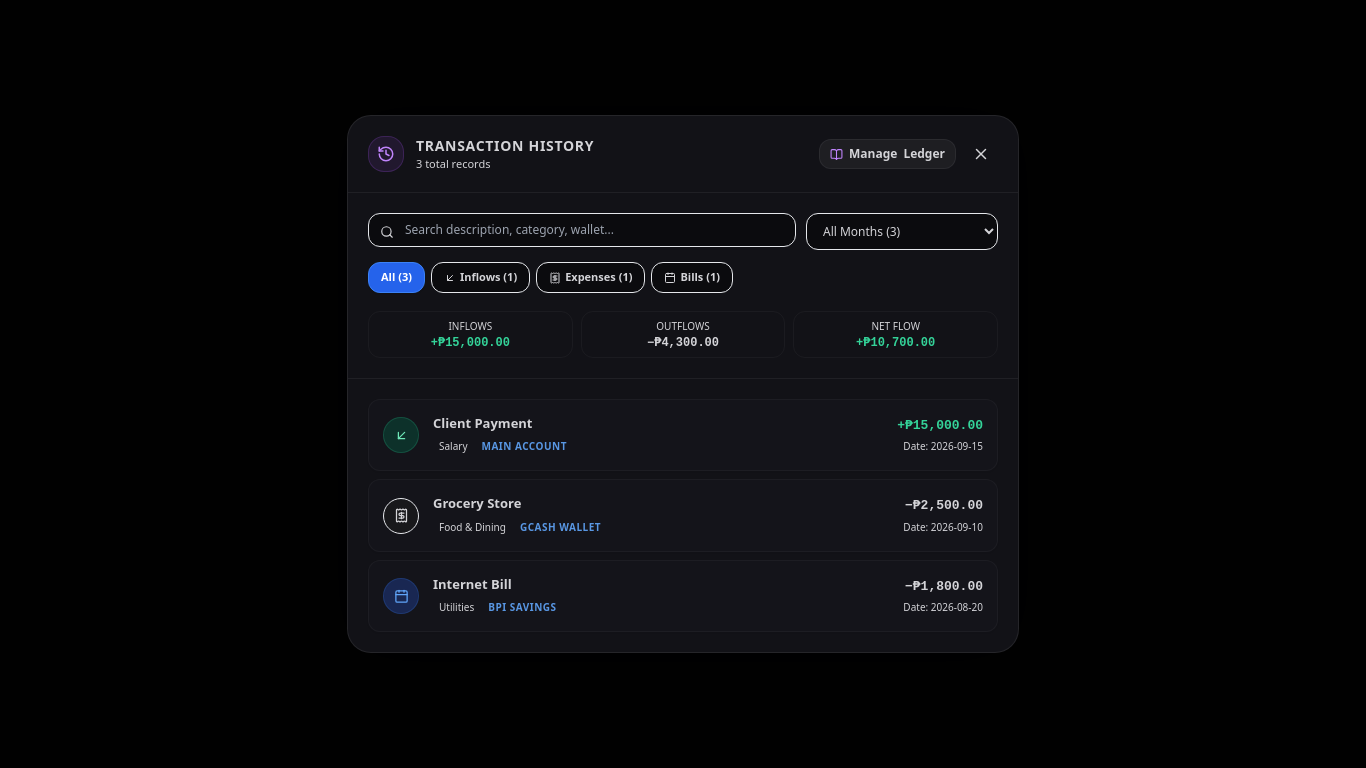
TransactionHistoryModal › displays empty state and resets filters when clear button is clicked
The image size is (1366, 768).
Type "nonexistent query" into the field with placeholder "Search description, category, wallet..." at coordinates (582, 230), box [368,213,796,247]
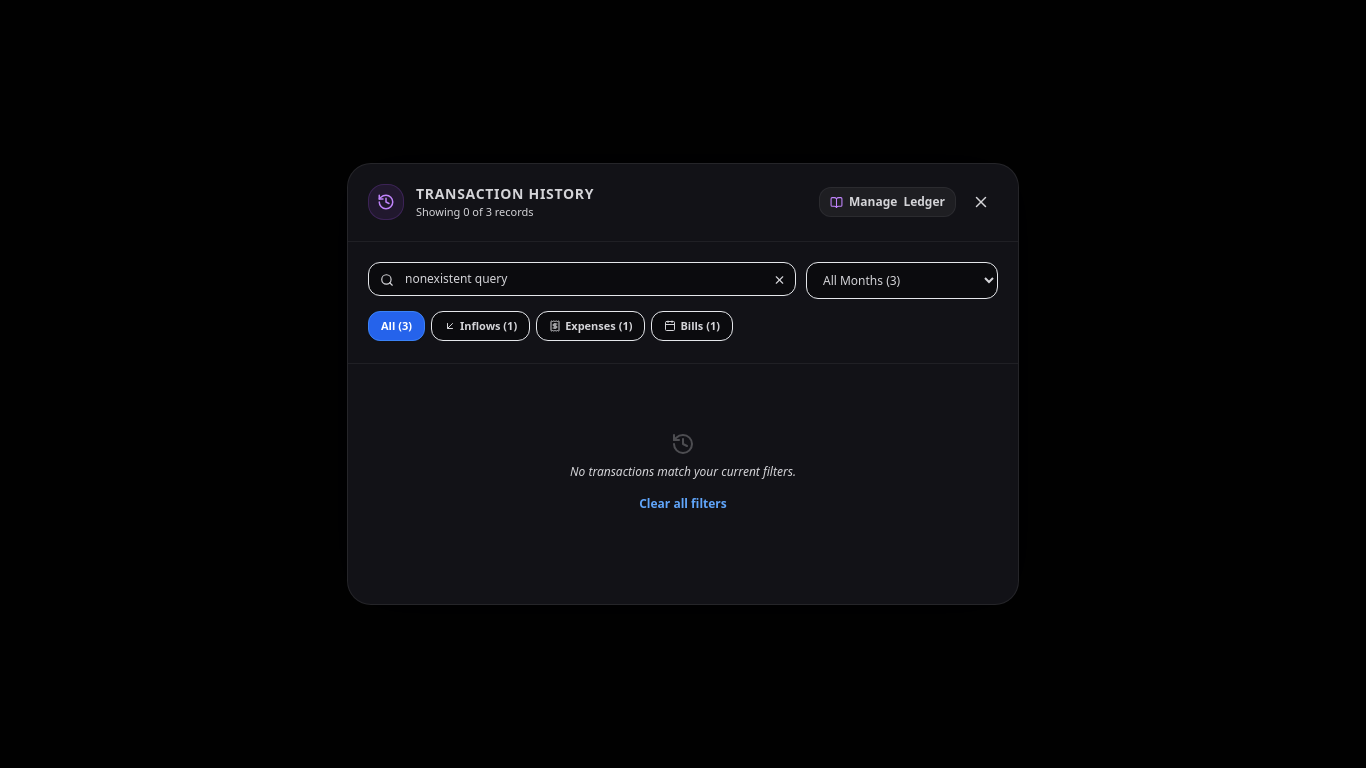
Expected: the text "No transactions match your current filters." is shown, [570,464,796,480]
Click the button "Clear all filters" at coordinates (683, 504), box [639,496,727,512]
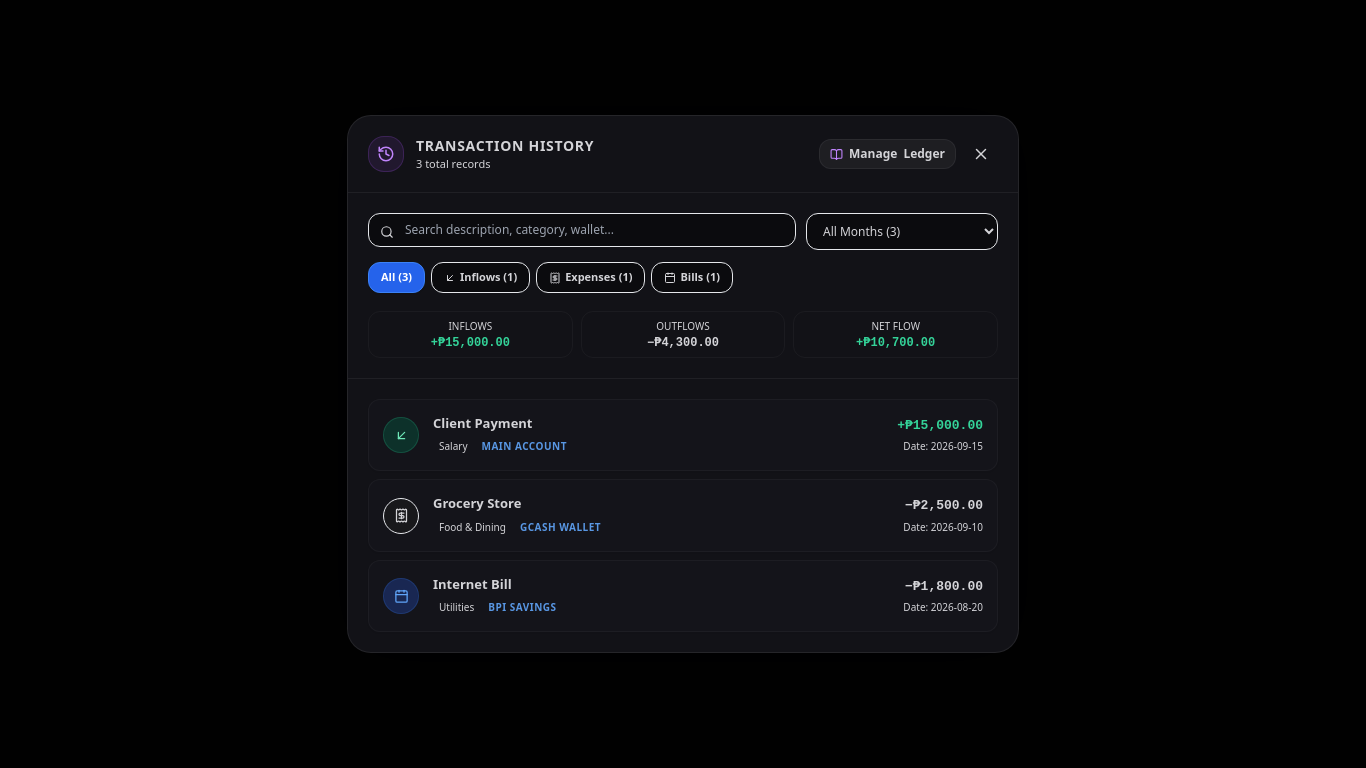
Expected: the text "Client Payment" is shown, [433,414,532,432]
Expected: the text "Grocery Store" is shown, [433,494,521,512]
